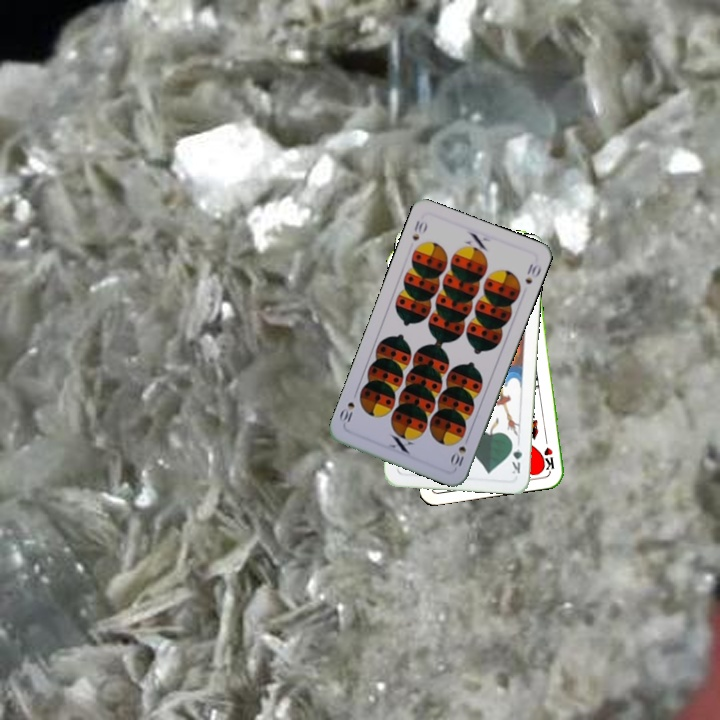GK: (507, 437, 525, 476)
HK: (540, 432, 557, 473)
S10: (447, 442, 469, 471), (408, 216, 430, 243)
